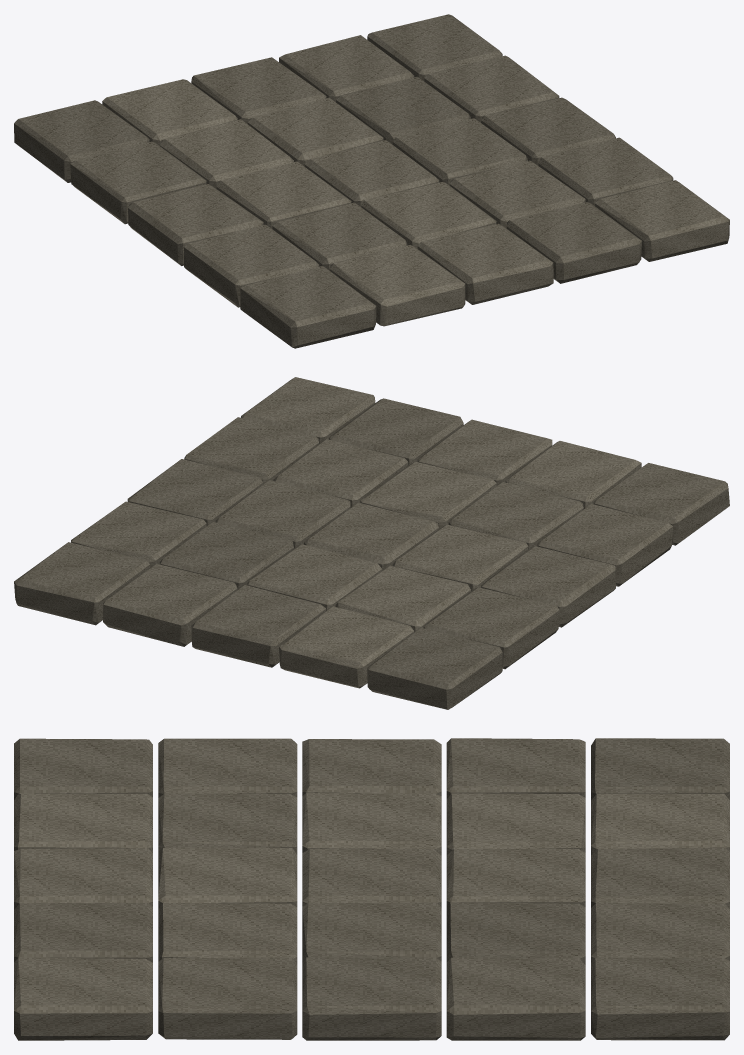
Rendered from env_ruin_surfaces_02_paving_wide.glb.
The picture shows the model from 3 angles, top to bottom: view 1: azimuth 30°, elevation 25°; view 2: azimuth 150°, elevation 25°; view 3: azimuth 270°, elevation 25°; orthographic projection. The views are drawn at different scales.
Size of the model in its own units: 1.79 by 0.105 by 1.99.
Materials: 1 (1 with a texture image).
